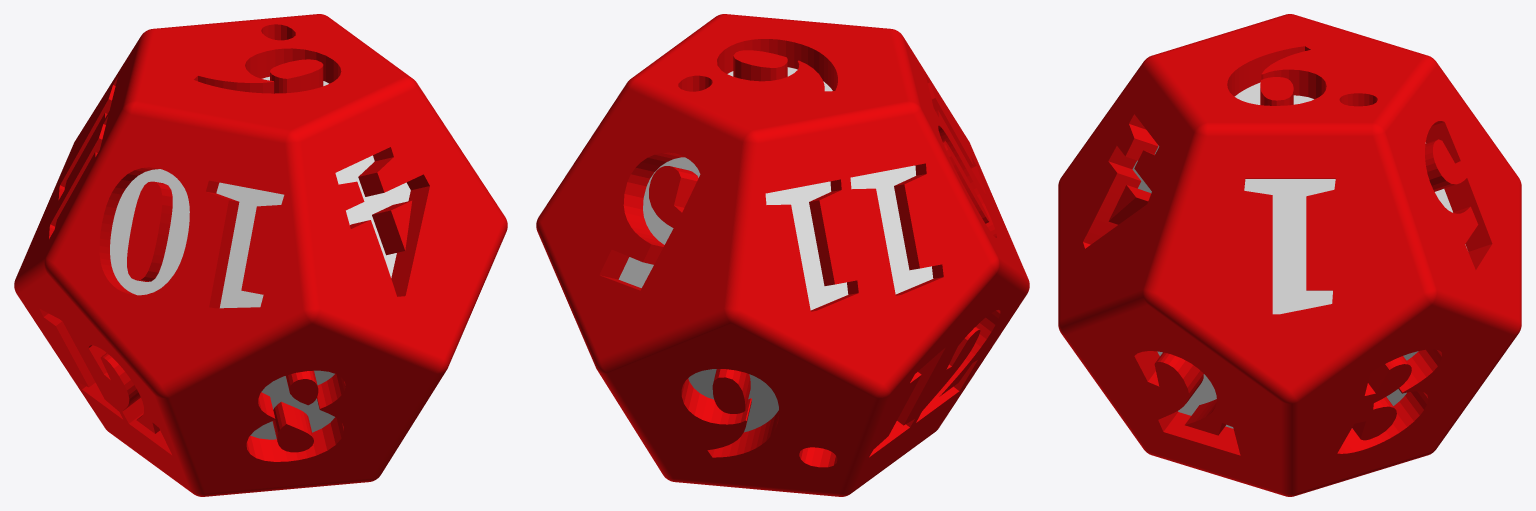
Rendered from DiceMakerD12.glb.
3 views of the same model, side by side, from view 1: azimuth 30°, elevation 25°; view 2: azimuth 150°, elevation 25°; view 3: azimuth 270°, elevation 25° (orthographic). The views are drawn at different scales.
Parts seen in each view (by area): view 1: d12_3d_numbered_stl, d12_3d_blank_stl; view 2: d12_3d_numbered_stl, d12_3d_blank_stl; view 3: d12_3d_numbered_stl, d12_3d_blank_stl.
Part boxes in pixels (x1,y1,x2,y2): d12_3d_numbered_stl: [14, 14, 507, 496]; d12_3d_blank_stl: [110, 76, 410, 439]; d12_3d_numbered_stl: [536, 14, 1029, 496]; d12_3d_blank_stl: [618, 67, 933, 432]; d12_3d_numbered_stl: [1058, 14, 1521, 496]; d12_3d_blank_stl: [1132, 82, 1466, 428].
Size of the model in its own units: 21.91 by 18 by 20.91.
